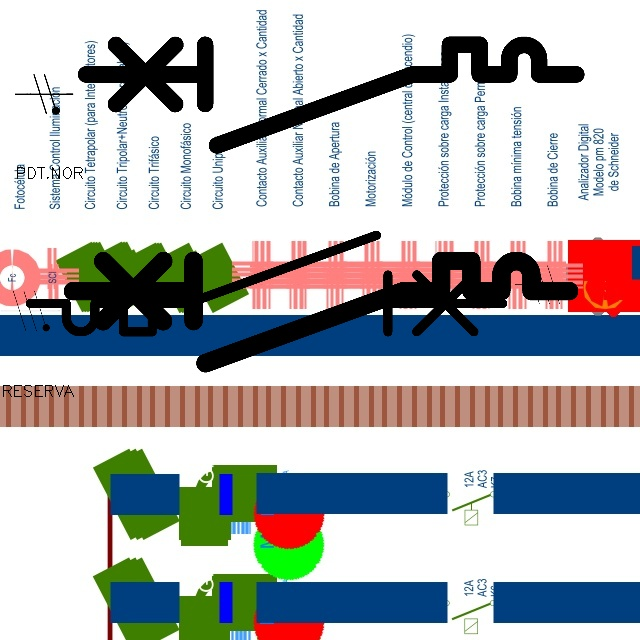interruptor_termomagnetico: (60, 248, 582, 375), (73, 32, 588, 158), (18, 223, 514, 344)
